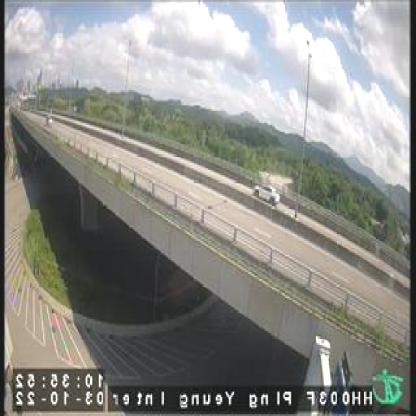Car: (255, 184, 279, 203)
